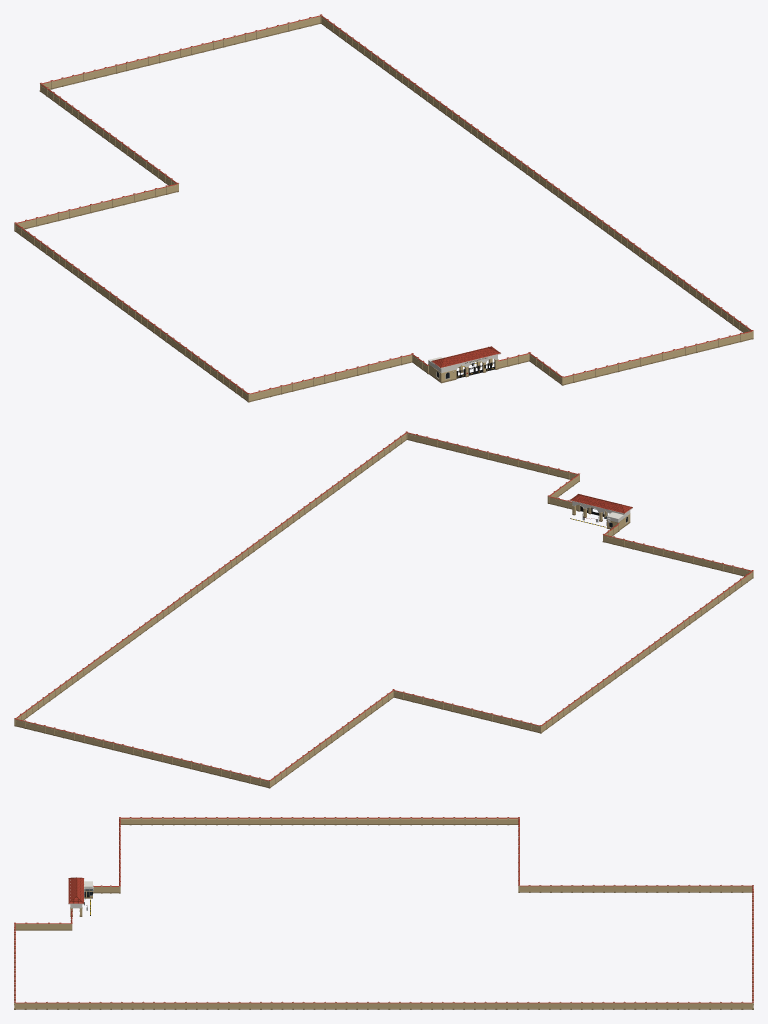
File: KMA_Gate.glb
3 renders of one model, top to bottom at view 1: azimuth 30°, elevation 25°; view 2: azimuth 150°, elevation 25°; view 3: azimuth 270°, elevation 25°, orthographic. The views are drawn at different scales.
Visible parts, largest first — view 1: KMA_Wall, KMA_Roof; view 2: KMA_Wall; view 3: KMA_Wall, KMA_Roof.
Boxes of the visible parts, x1,y1,x2,y2 form: KMA_Wall: (14,14,753,402); KMA_Roof: (431,346,501,368); KMA_Wall: (14,431,753,788); KMA_Wall: (14,817,753,1009); KMA_Roof: (68,877,84,904).
Size of the model in its own units: 147 by 6.85 by 248.
